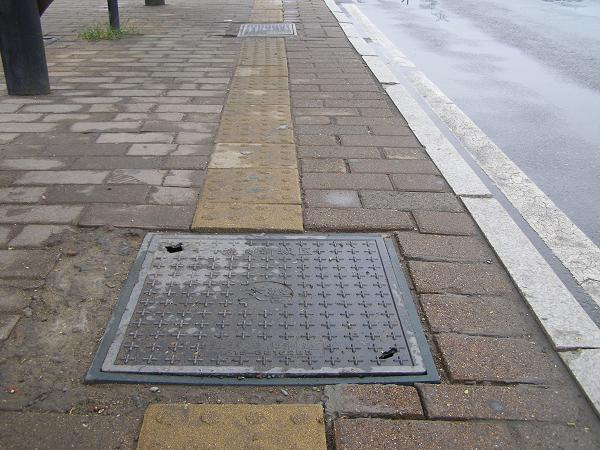wellcover: (74, 201, 460, 411), (222, 13, 309, 54)
